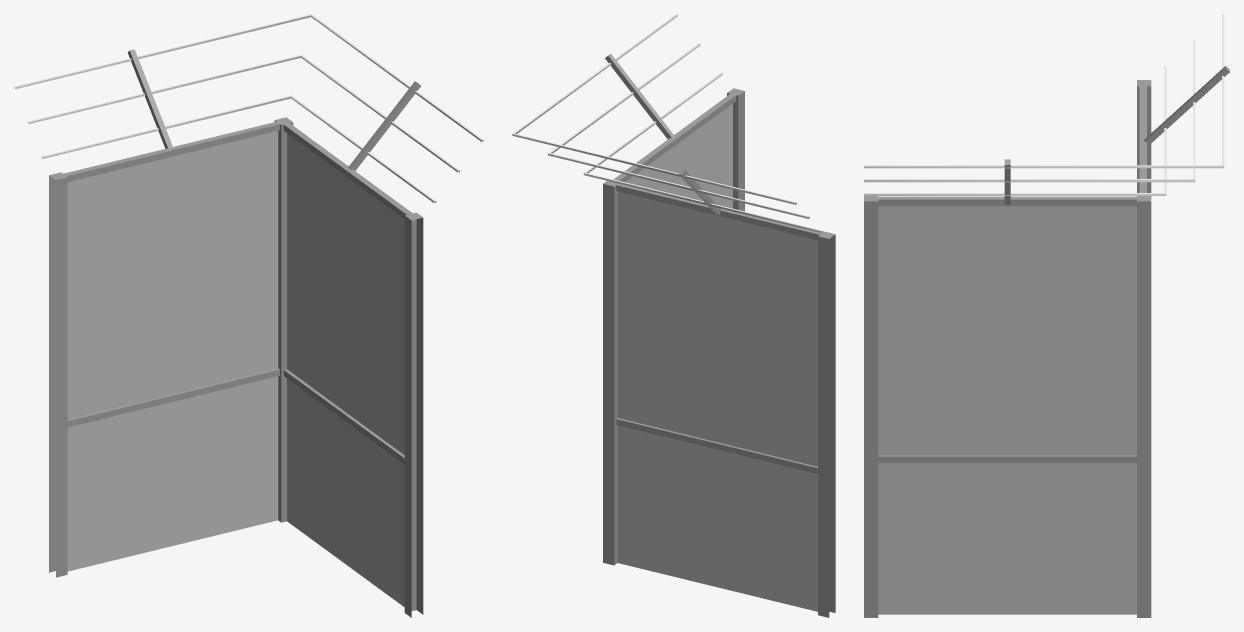
File: SM_Grid_Corner_A_200.FBX
3 renders of one model, left to right at view 1: azimuth 30°, elevation 25°; view 2: azimuth 150°, elevation 25°; view 3: azimuth 270°, elevation 25°, orthographic. The views are drawn at different scales.
Parts seen in each view (by area): view 1: SM_Grid_Corner_A_200; view 2: SM_Grid_Corner_A_200; view 3: SM_Grid_Corner_A_200.
Boxes of the visible parts, x1,y1,x2,y2 form: SM_Grid_Corner_A_200: [14, 14, 483, 617]; SM_Grid_Corner_A_200: [512, 14, 835, 617]; SM_Grid_Corner_A_200: [864, 14, 1229, 617].
Size of the model in its own units: 255 by 255 by 377.
